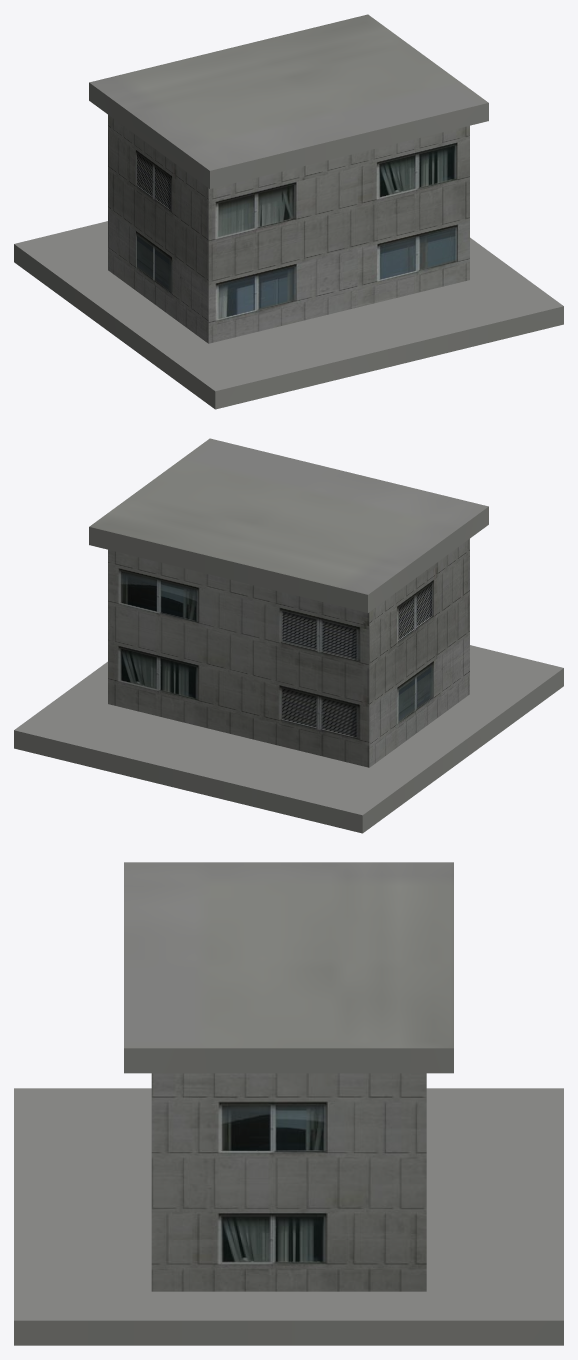
3 renders of one model, top to bottom at view 1: azimuth 30°, elevation 25°; view 2: azimuth 150°, elevation 25°; view 3: azimuth 270°, elevation 25°, orthographic. The views are drawn at different scales.
Visible parts, largest first — view 1: Cube; view 2: Cube; view 3: Cube.
Part boxes in pixels (x1,y1,x2,y2): Cube: (14,14,563,409); Cube: (14,438,563,833); Cube: (14,862,563,1345).
Bounding box in the file's own units: 8 × 8 × 4.4.
1 material, 1 textured.
